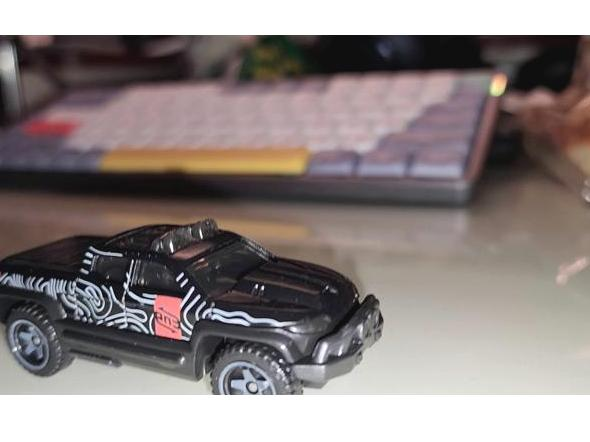toy-car: (0, 215, 384, 395)
